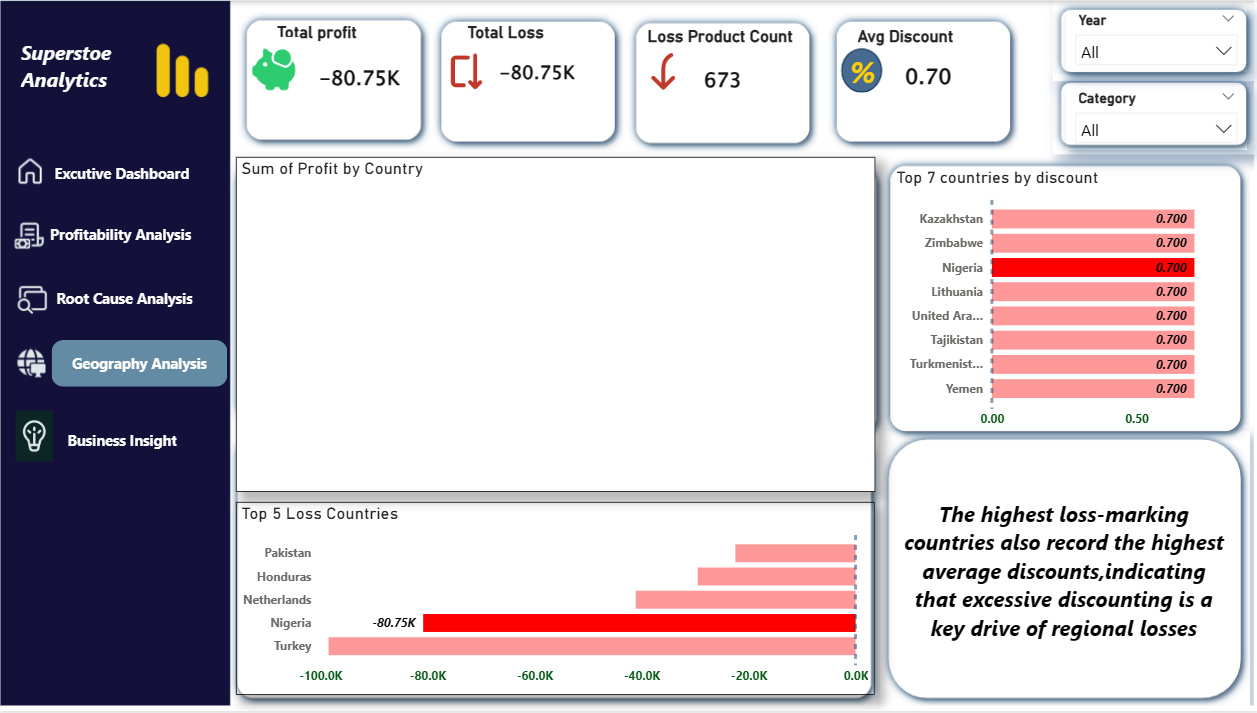

This screenshot's page, from the dashboard's own definition file:
{"tool":"powerbi","page":{"name":"Geography Analysis","canvas":[1280,720],"ordinal":3},"visuals":[{"type":"shape","box":[24.6,153.1,211.7,47.2],"z":0},{"type":"shape","box":[28.3,279.7,207.9,45.4],"z":1000},{"type":"shape","box":[58.6,345.8,177.6,47.2],"z":2000},{"type":"shape","box":[22.7,423.3,215.4,45.4],"z":3000},{"type":"shape","box":[18.9,215.4,221.1,47.2],"z":4000},{"type":"shape","box":[23.3,36.7,185,71.7],"z":5000},{"type":"cardVisual","title":"Total profit","fields":{"Data":["measuress.total profit"]},"box":[281.6,24.6,177.6,92.6],"z":6000},{"type":"cardVisual","title":"Total Loss","fields":{"Data":["measuress.Total Loss"]},"box":[474.3,24.6,151.2,81.3],"z":7000},{"type":"cardVisual","title":"Loss Product Count","fields":{"Data":["measuress.loss product count"]},"box":[655.8,28.3,162.5,86.9],"z":8000},{"type":"map","fields":{"Category":["Dim_geography.Country"],"Size":["Sum(Fact_sales.Profit)"]},"box":[245.3,160.5,645.1,337.7],"z":9000},{"type":"clusteredBarChart","title":"Top 7 countries by discount","fields":{"Category":["Dim_geography.Country"],"Y":["Avg(Fact_sales.Discount)"]},"box":[906.7,171.7,351.7,271.7],"z":10000},{"type":"clusteredBarChart","title":"Top 5 Loss Countries","fields":{"Y":["Sum(Fact_sales.Profit)"],"Category":["Dim_geography.Country"]},"box":[245.7,508.4,644.4,194.6],"z":11000},{"type":"slicer","fields":{"Values":["Date.Year"]},"box":[1082.7,9.1,183.2,65.1],"z":12000},{"type":"slicer","fields":{"Values":["Dim_product.Category"]},"box":[1082.7,87.8,183.2,65.1],"z":13000},{"type":"image","box":[22.7,415.8,37.8,51],"z":14000},{"type":"image","box":[256.9,39.8,51.8,63.7],"z":15000},{"type":"image","box":[454.1,45.8,47.8,57.8],"z":16000},{"type":"image","box":[653.3,45.8,47.8,57.8],"z":17000},{"type":"cardVisual","title":"Avg Discount","fields":{"Data":["Avg(Fact_sales.Discount)"]},"box":[867.4,28.3,153.1,81.3],"z":18000},{"type":"shape","box":[905.5,448.2,351.3,257.4],"z":19000},{"type":"shape","box":[852.3,43.5,51,58.6],"z":19001}]}

Visuals, with their boxes on the page's 1280x720 design canvas (x1, y1, x2, y2). These are canvas units, not pixel positions in the 1257x713 screenshot, which may show the page scaled, cropped or inside an application window:
shape: (25, 153, 236, 200)
shape: (28, 280, 236, 325)
shape: (59, 346, 236, 393)
shape: (23, 423, 238, 469)
shape: (19, 215, 240, 263)
shape: (23, 37, 208, 108)
"Total profit" cardVisual: (282, 25, 459, 117)
"Total Loss" cardVisual: (474, 25, 626, 106)
"Loss Product Count" cardVisual: (656, 28, 818, 115)
map - Dim_geography.Country x Sum(Fact_sales.Profit): (245, 160, 890, 498)
"Top 7 countries by discount" clusteredBarChart: (907, 172, 1258, 443)
"Top 5 Loss Countries" clusteredBarChart: (246, 508, 890, 703)
slicer - Date.Year: (1083, 9, 1266, 74)
slicer - Dim_product.Category: (1083, 88, 1266, 153)
image: (23, 416, 60, 467)
image: (257, 40, 309, 104)
image: (454, 46, 502, 104)
image: (653, 46, 701, 104)
"Avg Discount" cardVisual: (867, 28, 1020, 110)
shape: (906, 448, 1257, 706)
shape: (852, 44, 903, 102)
